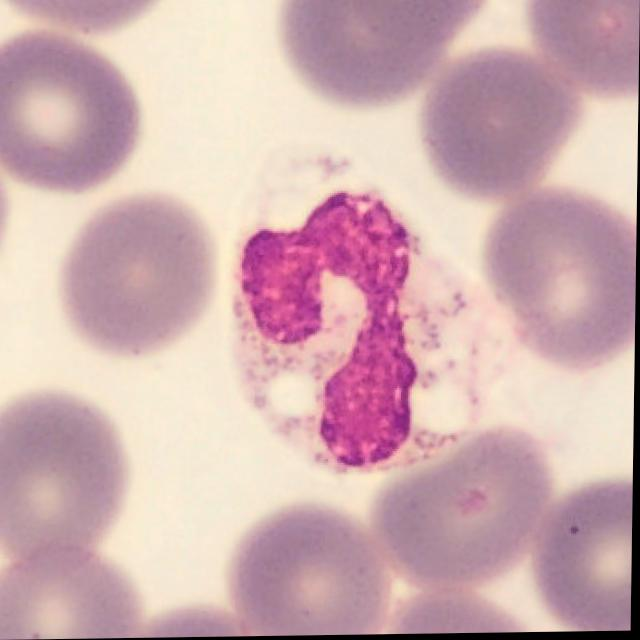Neutrofilo segmentado: (229, 144, 516, 479)
